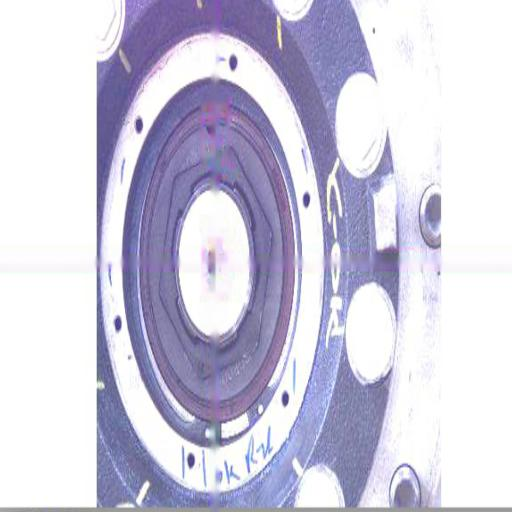center: (205, 255, 217, 290)
notch: (202, 122, 221, 149)
